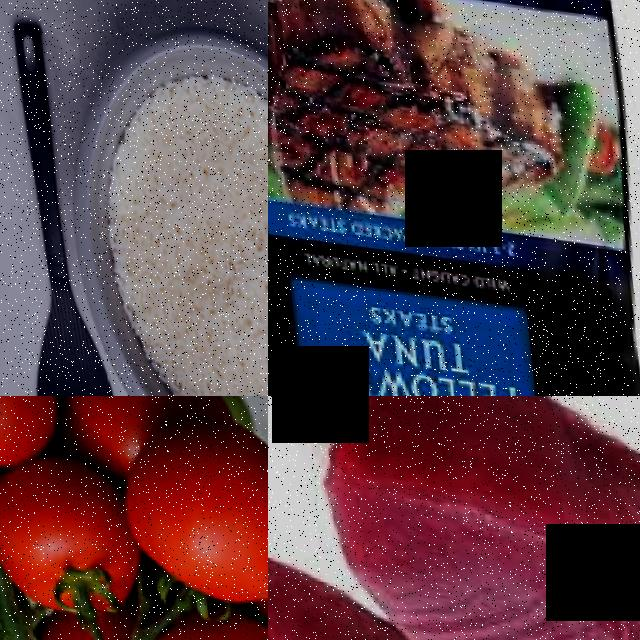tomato: (104, 399, 268, 601), (0, 445, 136, 616), (130, 590, 268, 640)
tuna: (297, 396, 640, 640), (268, 514, 537, 640)
white rice: (110, 85, 268, 396)
